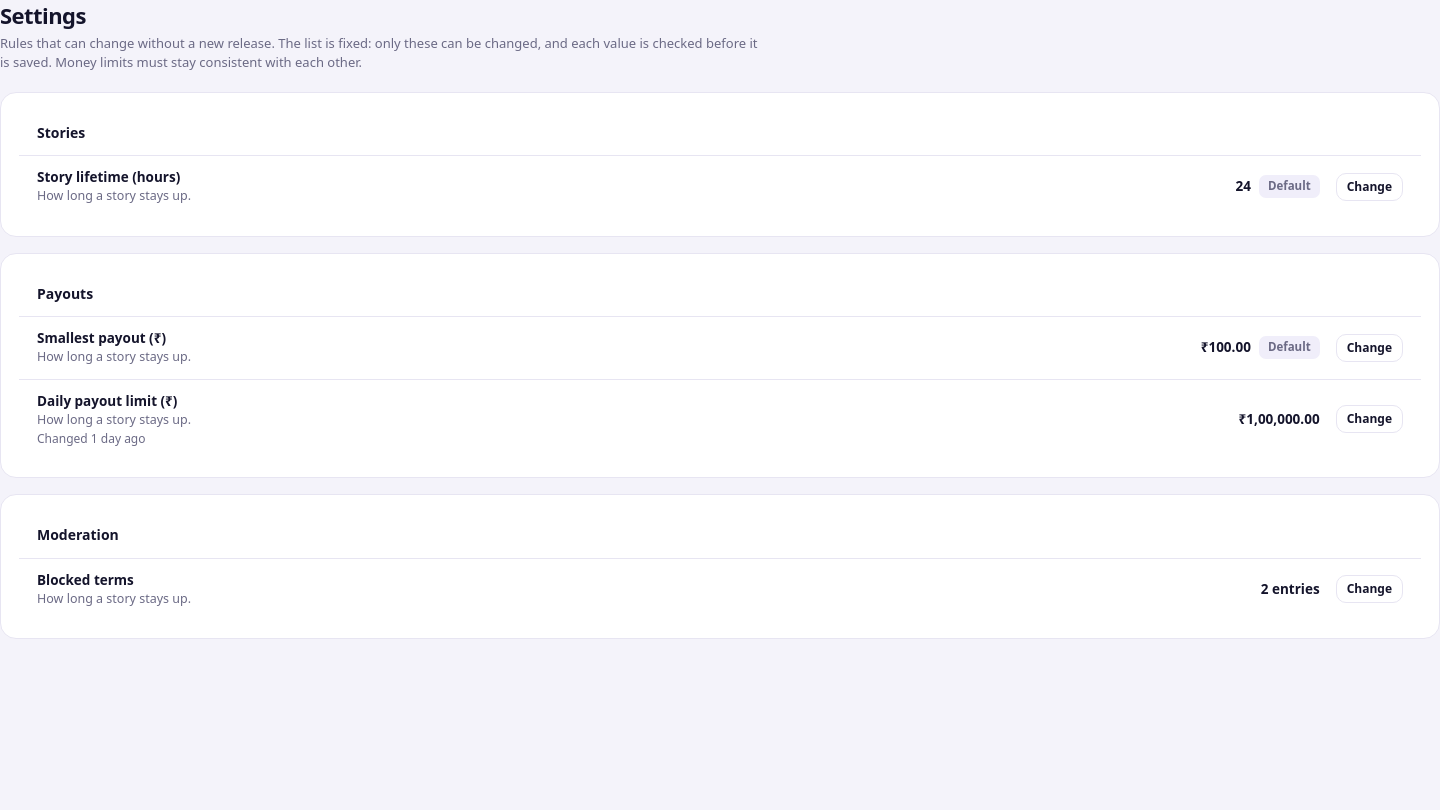
the settings page › puts the API's objection next to the value, for example when limits would contradict each other
The width and height of the screenshot is (1440, 810).
Click the button with aria-label "Change Smallest payout (₹)".
click(1369, 348)  # box [1336,334,1403,362]
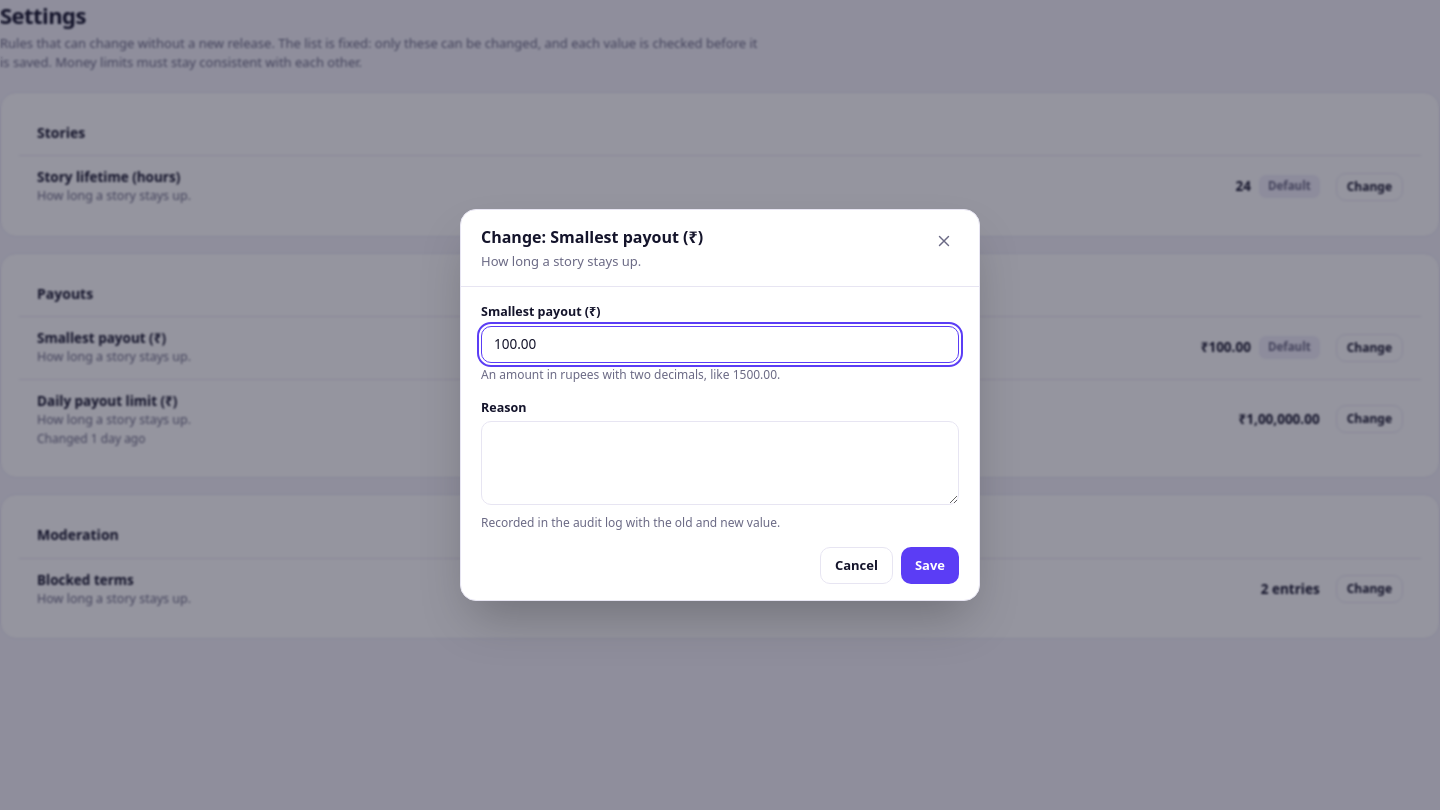
Replace the text in the field labelled "Smallest payout (₹)" with "60000.00" at (720, 344), box [481,326,959,363]
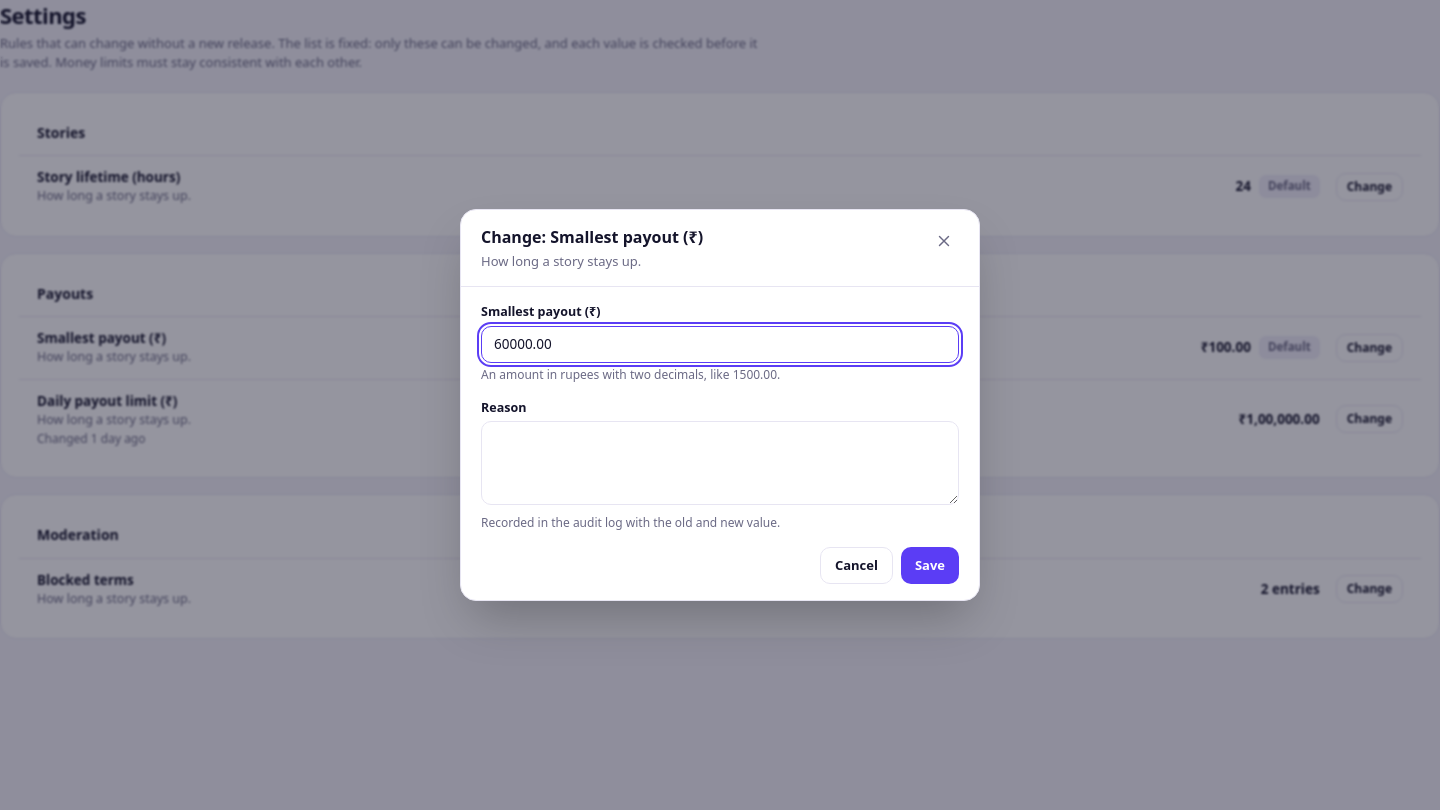
Type "Raising the minimum payout a lot" into the text box labelled "Reason".
click(720, 463); type("Raising the minimum payout a lot")  # box [481,421,959,505]
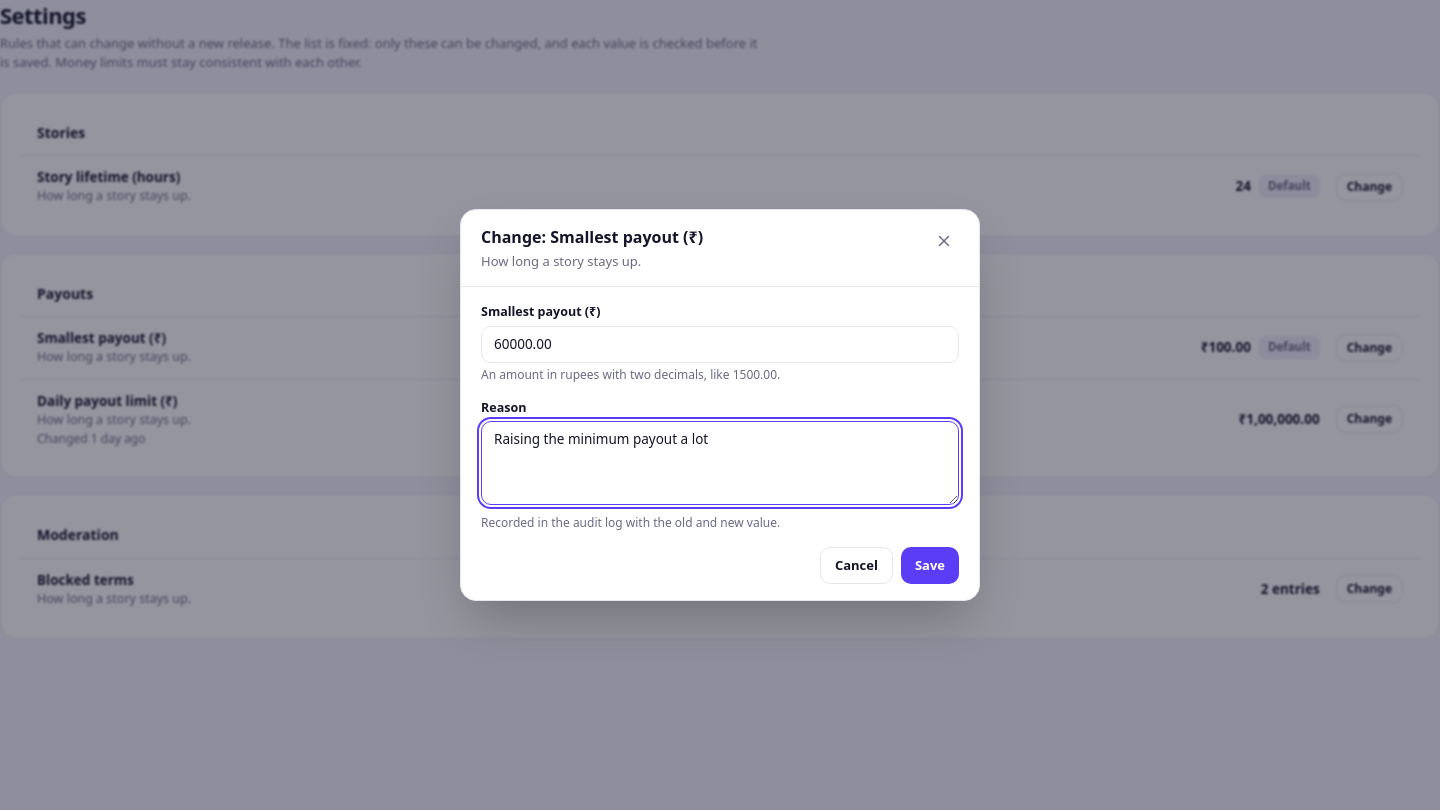
Click the button "Save".
click(930, 565)  # box [901,547,959,584]
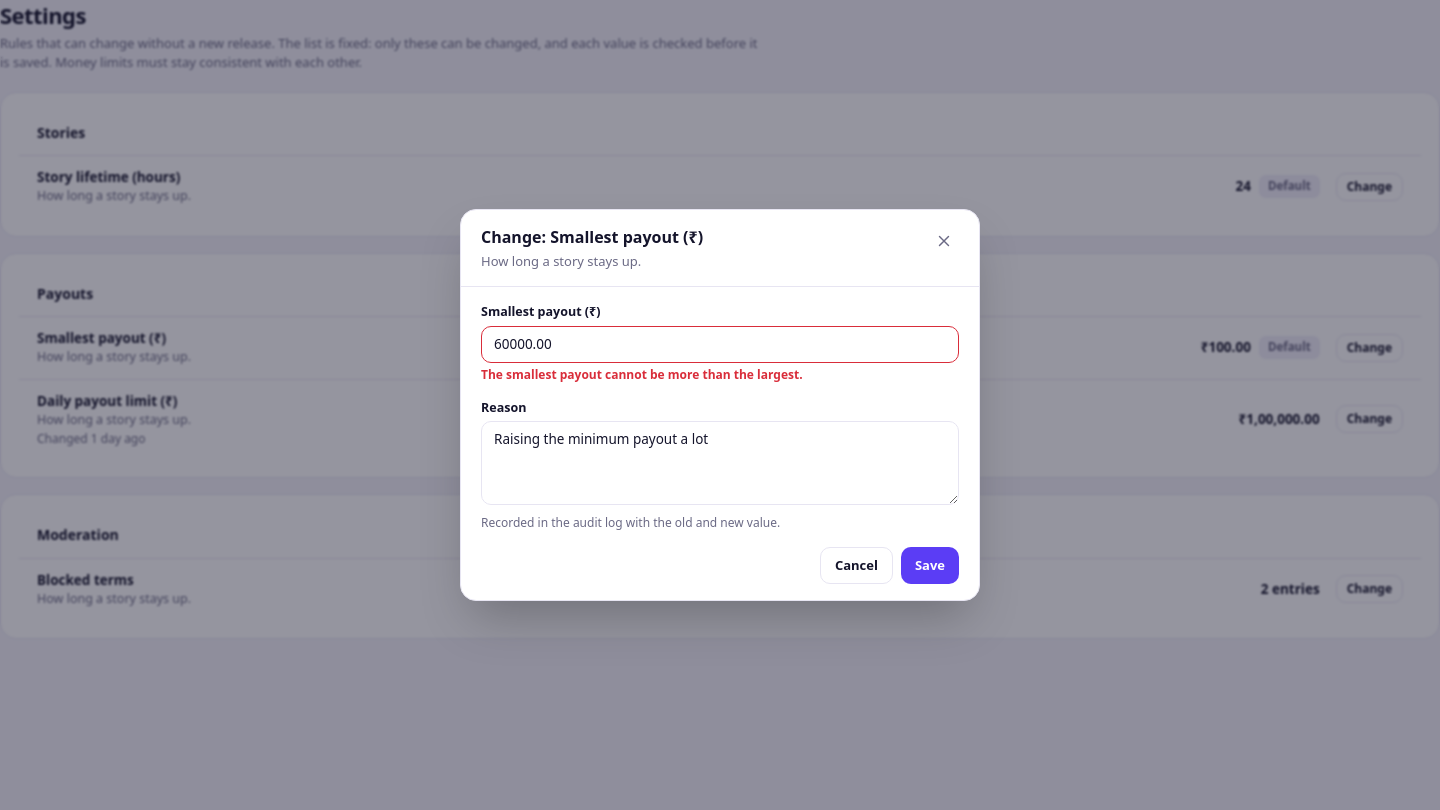
Expected: the text "The smallest payout cannot be more than the largest." is shown, [481,366,803,383]
